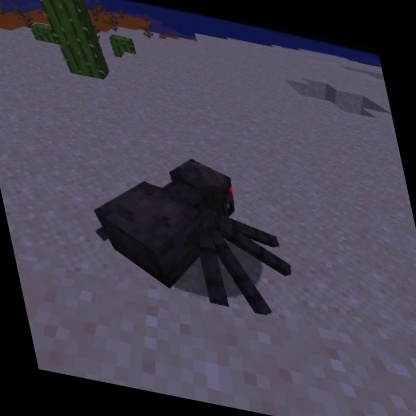spider: (70, 131, 307, 325)
